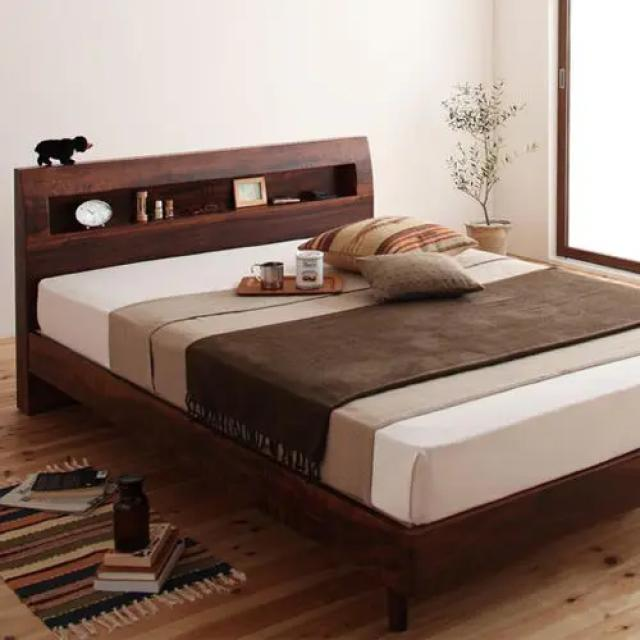bed vintage: (10, 128, 640, 633)
